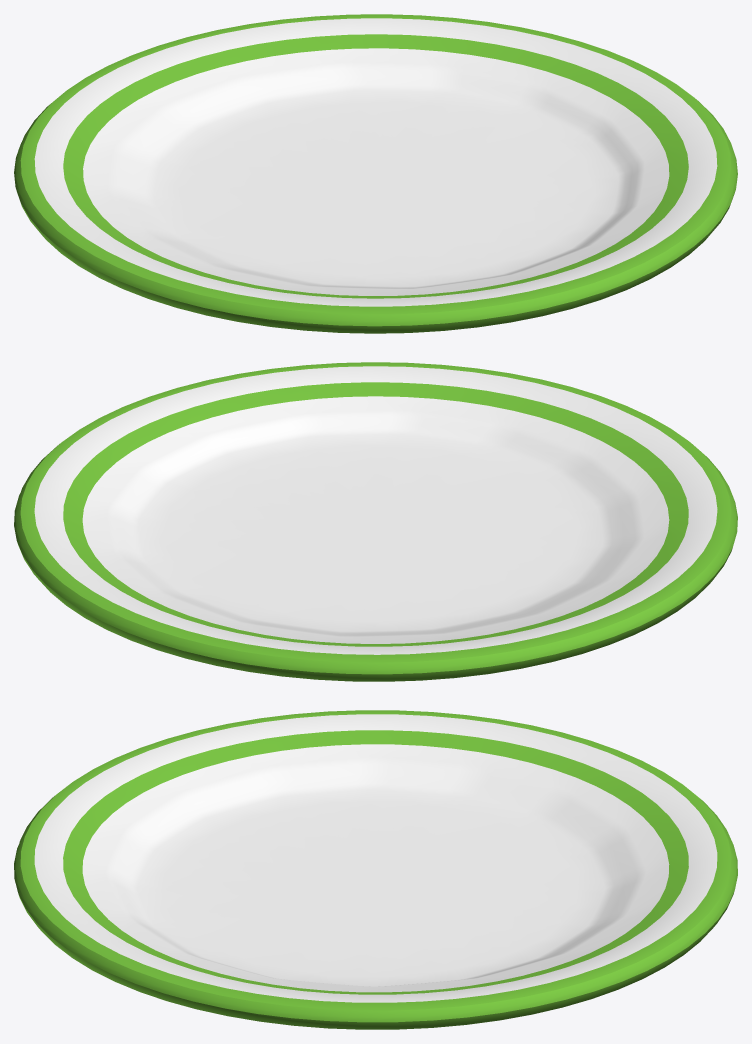
Rendered from GreenPlate.fbx.
The picture shows the model from 3 angles, top to bottom: view 1: azimuth 30°, elevation 25°; view 2: azimuth 150°, elevation 25°; view 3: azimuth 270°, elevation 25°; orthographic projection.
Visible parts, largest first — view 1: Plate1; view 2: Plate1; view 3: Plate1.
Boxes of the visible parts, left/top/right/bottom form: Plate1: left=14, top=14, right=737, bottom=333; Plate1: left=14, top=362, right=737, bottom=681; Plate1: left=14, top=710, right=737, bottom=1029.
Size of the model in its own units: 24.27 by 2.13 by 24.27.
1 material, 1 textured.
